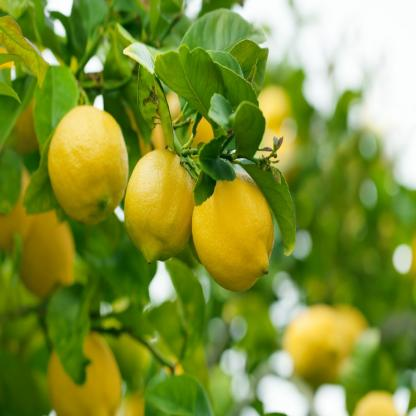--: (33, 94, 134, 242), (184, 139, 276, 293), (123, 133, 204, 277)
